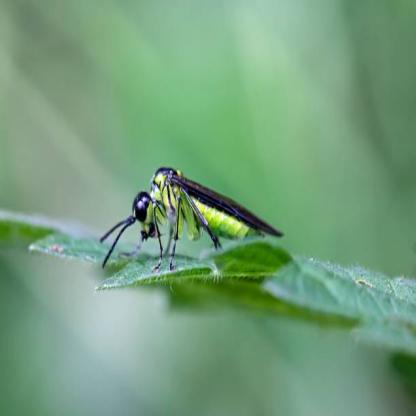sawfly: (97, 160, 290, 276)
